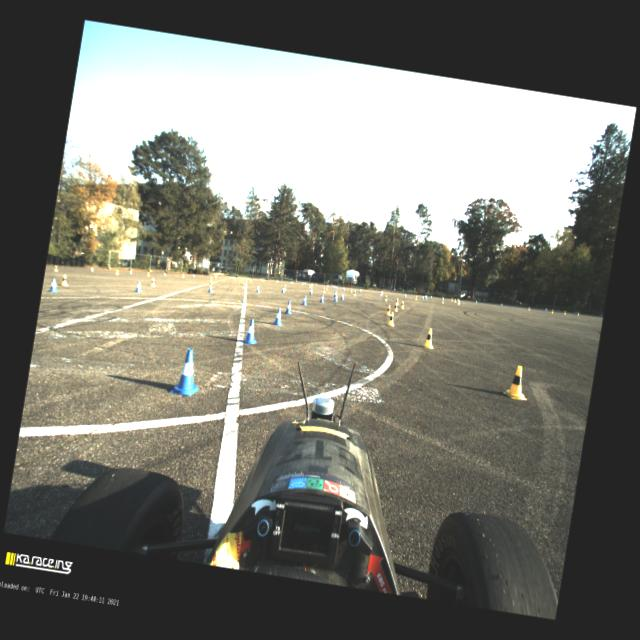blue_cone: (168, 346, 206, 398), (243, 318, 260, 346), (272, 306, 285, 326), (48, 278, 60, 294), (284, 300, 294, 315), (134, 281, 144, 293), (302, 294, 308, 306), (320, 294, 326, 304), (208, 284, 214, 293), (256, 284, 260, 294), (281, 286, 286, 294), (309, 288, 314, 296), (340, 292, 345, 300), (334, 294, 338, 302), (90, 266, 94, 272), (334, 290, 337, 297), (342, 286, 346, 291), (421, 294, 424, 300), (128, 270, 132, 274), (332, 285, 336, 289), (192, 273, 195, 278), (359, 288, 362, 293), (214, 275, 217, 279), (334, 284, 336, 290), (326, 284, 329, 288), (475, 300, 478, 304), (545, 308, 548, 312), (382, 290, 384, 296), (336, 285, 338, 290), (404, 293, 406, 298), (426, 295, 428, 300), (164, 272, 166, 276), (247, 277, 249, 281), (260, 278, 262, 282), (292, 280, 294, 284), (315, 282, 317, 286), (331, 284, 333, 288), (430, 295, 432, 299), (500, 302, 502, 306), (232, 276, 234, 280), (600, 314, 602, 318), (575, 311, 577, 315), (557, 308, 559, 312), (457, 298, 459, 302), (442, 296, 444, 300), (424, 294, 426, 298), (304, 282, 306, 284), (278, 280, 278, 282)
yellow_cone: (502, 363, 532, 401), (422, 328, 437, 350), (388, 312, 397, 327), (60, 274, 70, 287), (386, 304, 392, 316), (150, 278, 157, 288), (393, 302, 399, 312), (400, 301, 406, 310), (395, 297, 400, 306), (115, 268, 120, 276), (209, 280, 214, 288), (241, 282, 246, 289), (54, 265, 59, 272), (384, 294, 388, 302), (413, 295, 418, 301), (322, 287, 326, 294), (353, 290, 357, 296), (550, 308, 554, 314), (457, 300, 461, 306), (283, 284, 287, 290), (380, 291, 383, 297), (576, 312, 580, 316), (308, 284, 312, 288), (146, 272, 150, 276), (350, 288, 353, 293), (210, 275, 213, 280), (564, 310, 566, 316), (442, 298, 444, 304), (454, 298, 456, 304), (451, 298, 454, 302), (234, 277, 237, 281), (325, 286, 328, 290), (528, 306, 530, 311), (310, 284, 312, 288), (182, 274, 184, 278), (250, 278, 252, 282), (262, 278, 264, 282), (290, 280, 292, 284), (302, 282, 304, 286), (276, 279, 278, 283)
